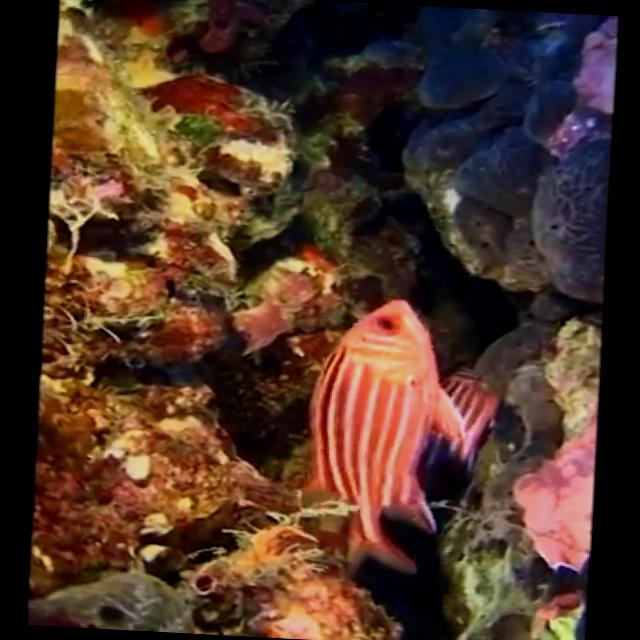Asker Baligi: (294, 292, 506, 582)
